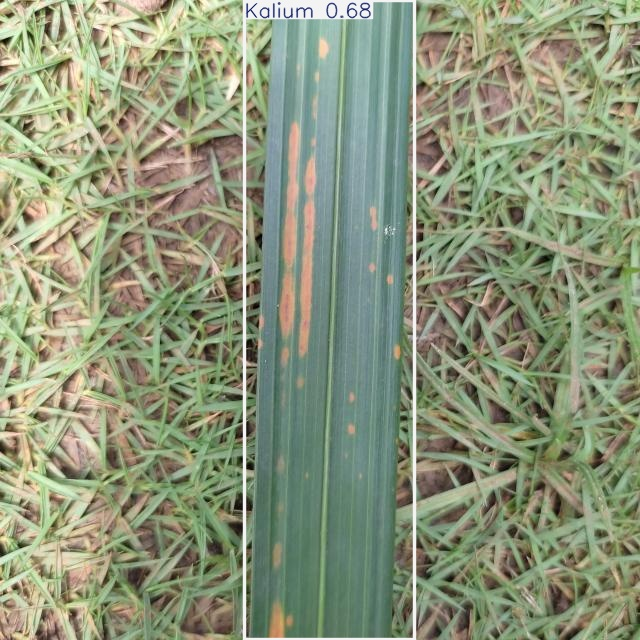Kalium: (244, 0, 415, 639)
